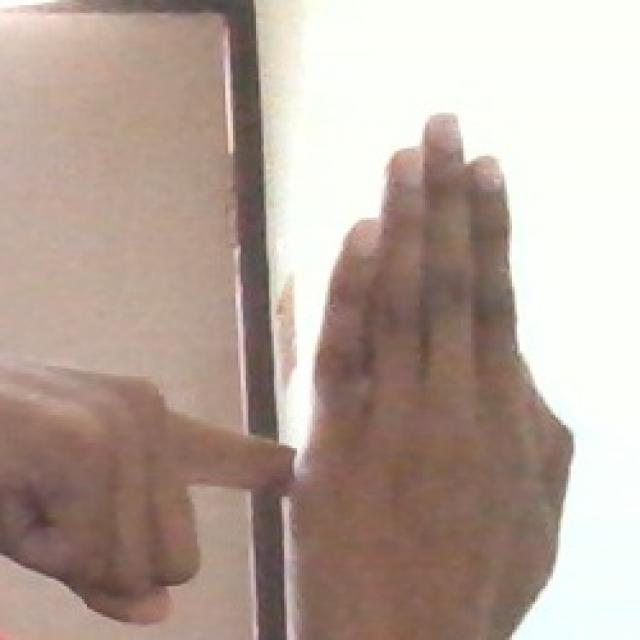Alphabet-R: (0, 80, 582, 640)
